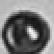correct: (1, 9, 52, 54)
